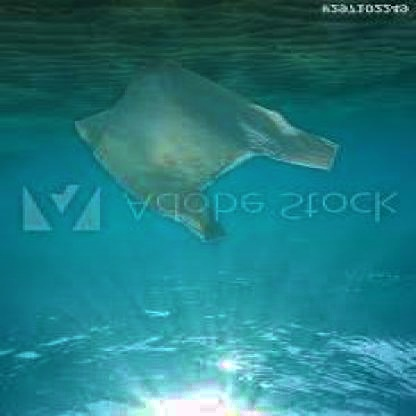pbag: (73, 58, 341, 245)
